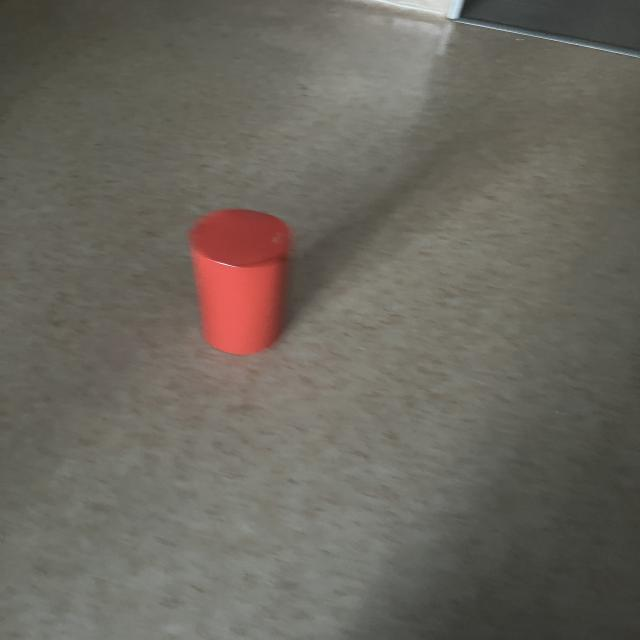przeszkoda: (188, 209, 292, 355)
